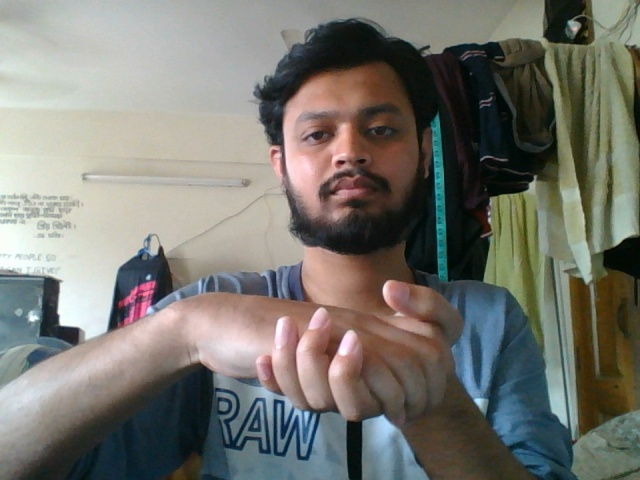bondhu: (76, 270, 544, 448)
